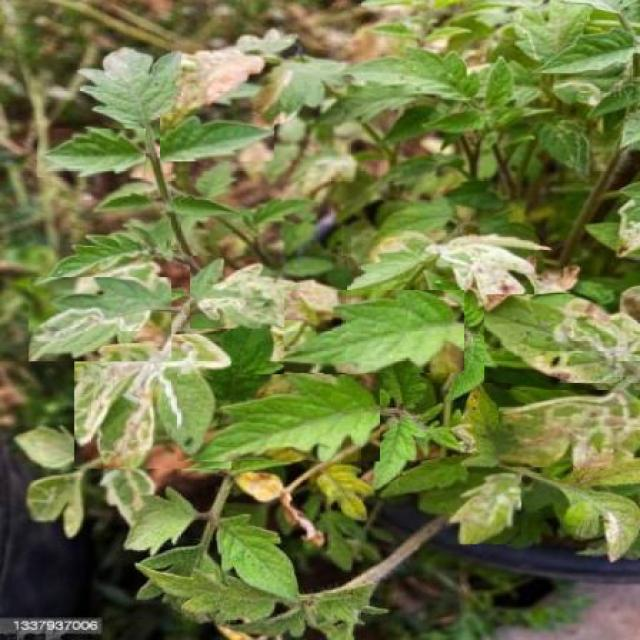Healthy: (177, 374, 380, 462), (284, 291, 464, 374), (160, 115, 274, 162), (37, 129, 146, 177)
Leaf Miner: (75, 334, 231, 469), (484, 294, 640, 383), (29, 277, 171, 362), (190, 256, 347, 328), (498, 391, 640, 468), (426, 233, 535, 311), (446, 472, 521, 544)
